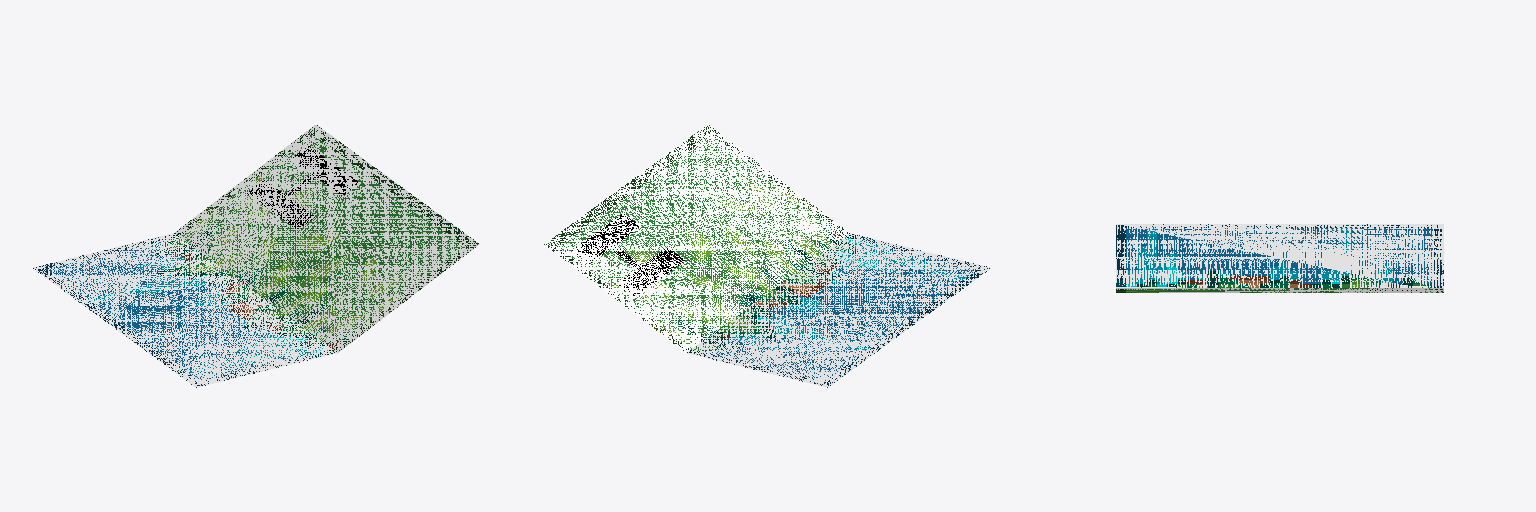
3 renders of one model, left to right at view 1: azimuth 30°, elevation 25°; view 2: azimuth 150°, elevation 25°; view 3: azimuth 270°, elevation 25°, orthographic.
Parts seen in each view (by area): view 1: Mesh1 Model; view 2: Mesh1 Model; view 3: Mesh1 Model.
Boxes of the visible parts, <box> form: Mesh1 Model: <box>33,125,479,387</box>; Mesh1 Model: <box>544,125,990,387</box>; Mesh1 Model: <box>1116,224,1443,292</box>.
Bounding box in the file's own units: 32 × 8 × 32.
2 materials, 1 textured.